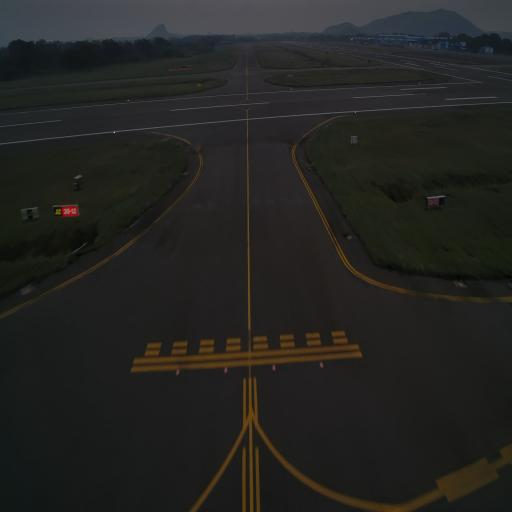on: (270, 360, 279, 378), (221, 363, 231, 379), (173, 364, 181, 382), (319, 356, 325, 374)
